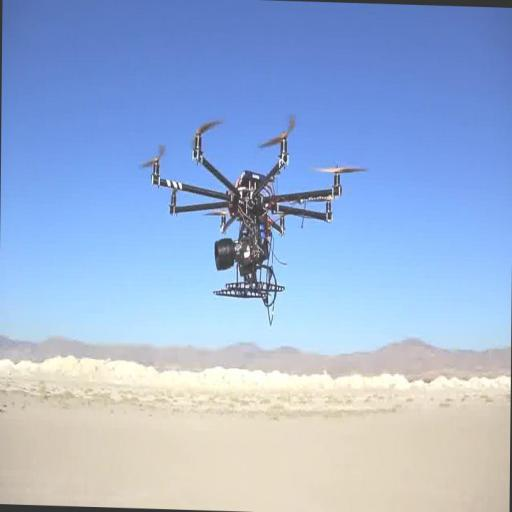drone: (137, 114, 370, 298)
